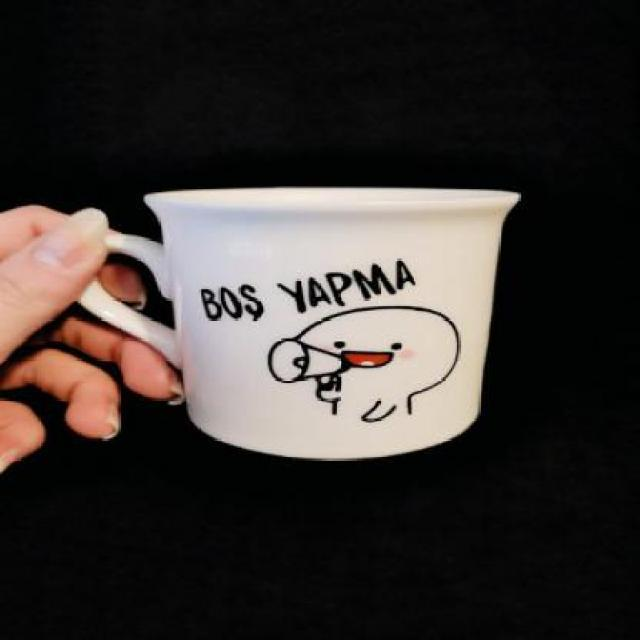taza: (64, 173, 532, 469)
